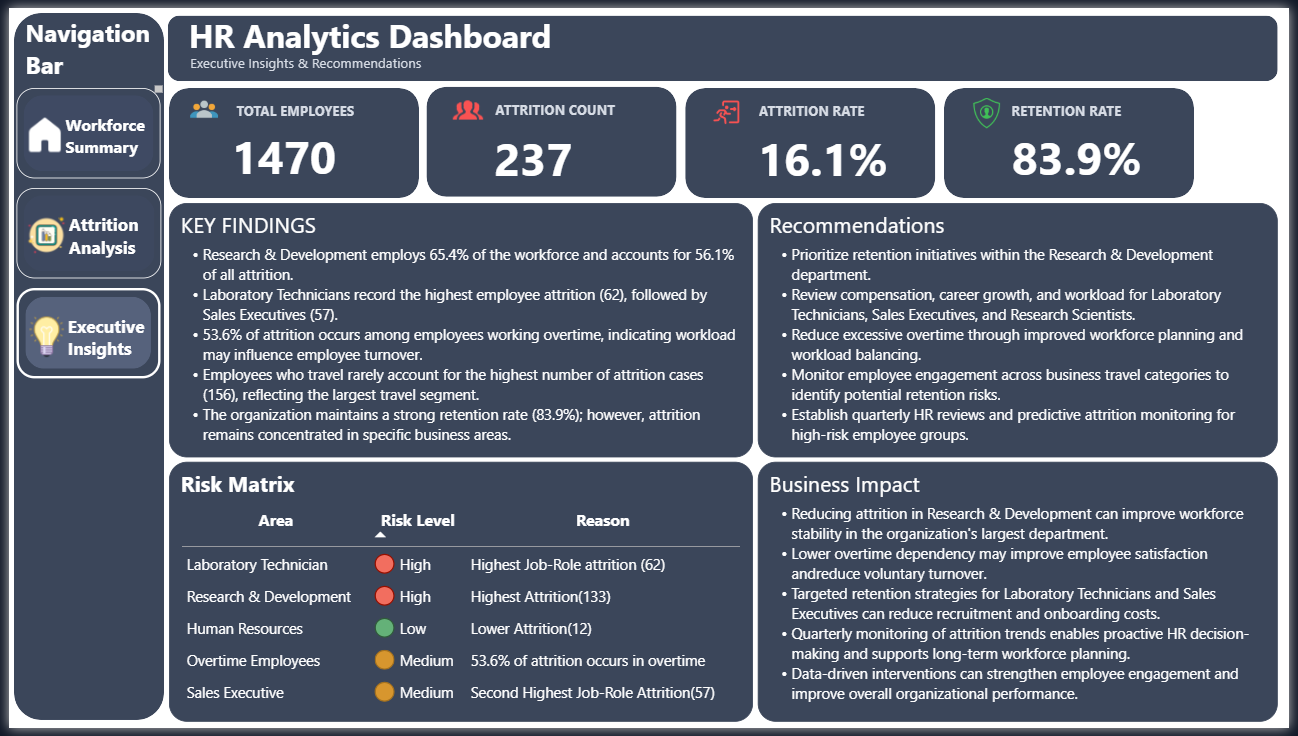

What the dashboard file says about the page in this screenshot:
{"tool":"powerbi","page":{"name":"Executive Insights & Recommendations","canvas":[1280,720],"ordinal":2},"visuals":[{"type":"shape","box":[5,4.8,150,707],"z":0},{"type":"shape","box":[158.6,7.1,1110,65.7],"z":1000},{"type":"textbox","box":[175.3,1,391.2,52.5],"z":2000},{"type":"textbox","box":[176,41.4,264.3,31.4],"z":3000},{"type":"shape","box":[160.5,80,250,110],"z":4000},{"type":"textbox","box":[222.1,89,130,30],"z":5000},{"type":"cardVisual","fields":{"Data":["Measures (3).Total Employees"]},"box":[193.7,108.2,199.4,76.3],"z":6000},{"type":"image","box":[180.4,86.5,30,30],"z":7000},{"type":"shape","box":[675.8,79.5,250,110],"z":8000},{"type":"textbox","box":[744.5,88.5,130,30],"z":9000},{"type":"cardVisual","fields":{"Data":["Measures (3).Attrition Rate"]},"box":[719.6,107.7,192,80],"z":10000},{"type":"shape","box":[935.2,79.5,250,110],"z":11000},{"type":"textbox","box":[998,88.5,130,30],"z":12000},{"type":"cardVisual","fields":{"Data":["Measures (3).Retention Rate"]},"box":[973.6,107.7,207.5,79.6],"z":13000},{"type":"image","box":[702.1,88.5,30,30],"z":14000},{"type":"image","box":[962.2,89.7,30,30],"z":15000},{"type":"shape","box":[417.8,79.3,250,110],"z":16000},{"type":"textbox","box":[480.8,88.1,168.6,29.5],"z":17000},{"type":"cardVisual","fields":{"Data":["Measures (3).Attrition Count"]},"box":[456.8,110.1,199.4,76],"z":18000},{"type":"image","box":[444.3,85.7,30,30],"z":19000},{"type":"textbox","title":"KEY FINDINGS","box":[160,195,584.3,254],"z":20000},{"type":"textbox","title":"Recommendations","box":[748.8,195,520,254],"z":21000},{"type":"tableEx","title":"Risk Matrix","fields":{"Values":["Risk Matrix.Area","Risk Matrix.Risk Level","Risk Matrix.Reason"]},"box":[160,454,584.3,260],"z":22000},{"type":"textbox","title":"Business Impact","box":[749,454.3,520,260],"z":23000},{"type":"textbox","title":"Navigation Bar","box":[11,6.2,142.5,78.8],"z":24000},{"type":"actionButton","box":[7.1,179.8,145,90],"z":25000},{"type":"actionButton","box":[7.1,79.8,143.8,90],"z":26000},{"type":"actionButton","box":[7.1,279.8,143.8,90],"z":27000}]}

Visuals, with their boxes in screenshot pixels (x1, y1, x2, y2), scaled from the page's 1280x720 canvas onto the 1298x736 screenshot:
shape: [5,5,157,728]
shape: [161,7,1286,74]
textbox: [178,1,574,55]
textbox: [178,42,446,74]
shape: [163,82,416,194]
textbox: [225,91,357,122]
cardVisual - Measures (3).Total Employees: [196,111,399,189]
image: [183,88,213,119]
shape: [685,81,939,194]
textbox: [755,90,887,121]
cardVisual - Measures (3).Attrition Rate: [730,110,924,192]
shape: [948,81,1202,194]
textbox: [1012,90,1144,121]
cardVisual - Measures (3).Retention Rate: [987,110,1198,191]
image: [712,90,742,121]
image: [976,92,1006,122]
shape: [424,81,677,194]
textbox: [488,90,659,120]
cardVisual - Measures (3).Attrition Count: [463,113,665,190]
image: [451,88,481,118]
"KEY FINDINGS" textbox: [162,199,755,459]
"Recommendations" textbox: [759,199,1287,459]
"Risk Matrix" tableEx: [162,464,755,730]
"Business Impact" textbox: [760,464,1287,730]
"Navigation Bar" textbox: [11,6,156,87]
actionButton: [7,184,154,276]
actionButton: [7,82,153,174]
actionButton: [7,286,153,378]
